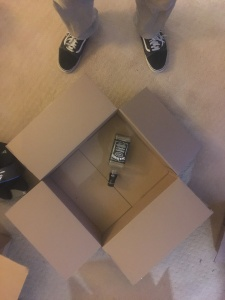innerbox: (67, 133, 150, 219)
outerbox: (13, 88, 209, 285)
product: (107, 133, 132, 188)
